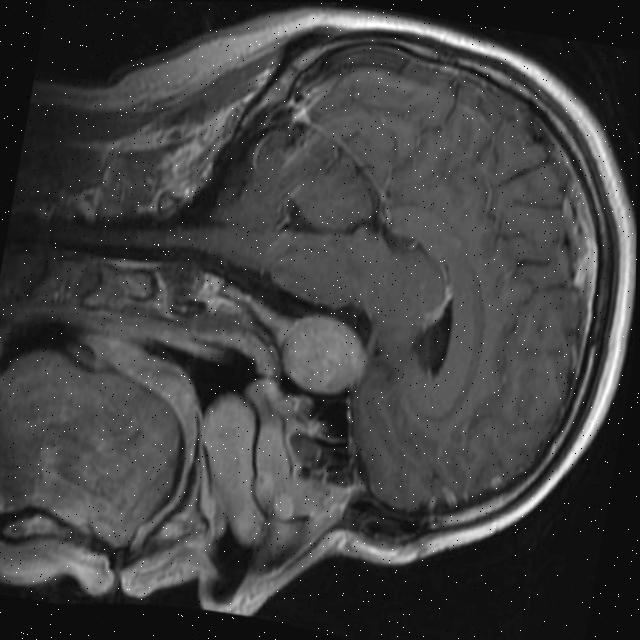Pituitary: (274, 309, 372, 401)
